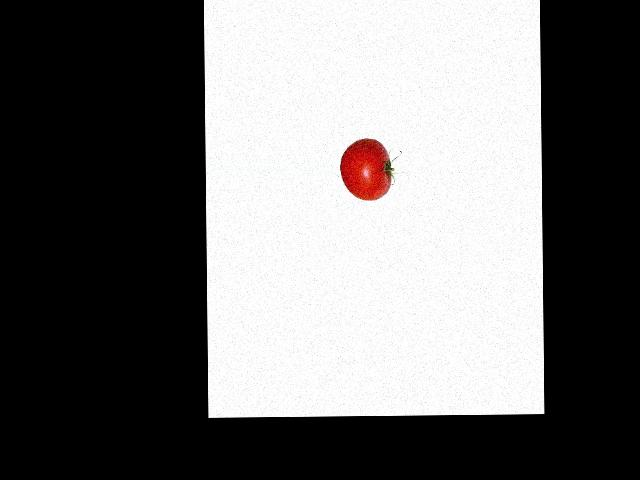tomato: (340, 139, 391, 200)
